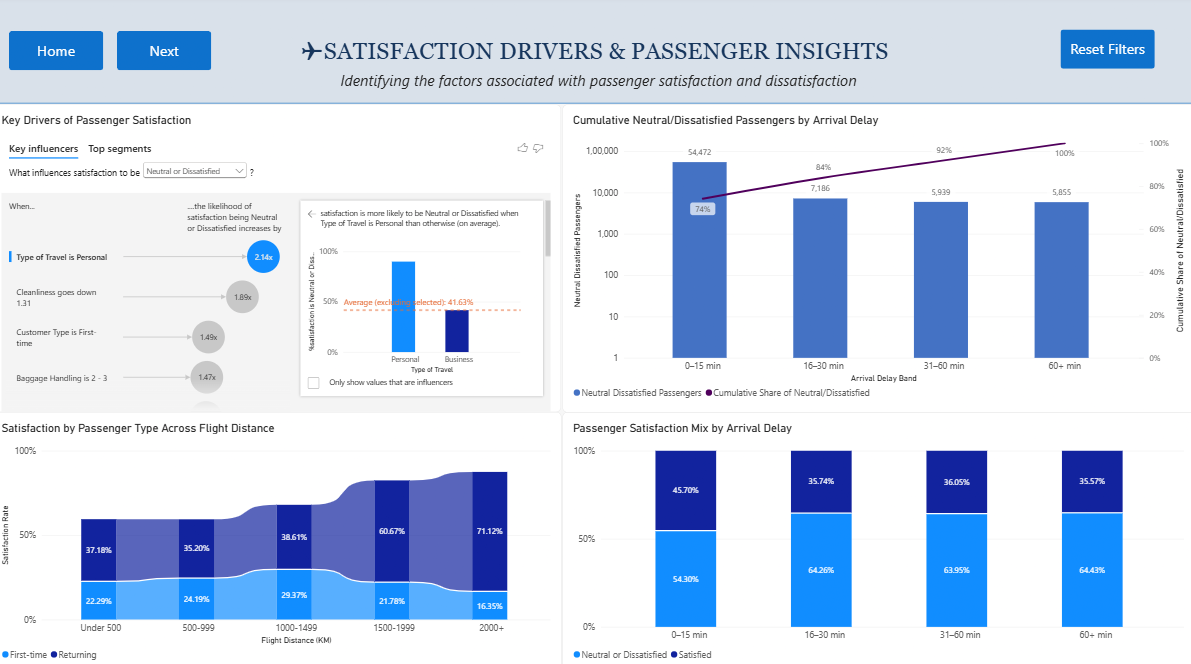

This screenshot's page, from the dashboard's own definition file:
{"tool":"powerbi","page":{"name":"Insights","canvas":[1920,1080],"ordinal":3},"visuals":[{"type":"shape","box":[5,0,1910,172.5],"z":0},{"type":"keyDriversVisual","title":"Key Drivers of Passenger Satisfaction","fields":{"Target":["Airline.Satisfaction"],"ExplainBy":["Airline.Age Group","Airline.Customer Type","Airline.Gender","Airline.Type of Travel","Airline.Flight Distance Group","Airline.Departure Delay Band","Airline.Arrival Delay Band","Airline.In-flight Service","Airline.Baggage Handling","Airline.Cleanliness"]},"box":[0,174.2,906.6,489.1],"z":1000},{"type":"ribbonChart","title":"Satisfaction by Passenger Type Across Flight Distance","fields":{"Category":["Airline.Flight Distance Group"],"Y":["Airline.Satisfaction Rate"],"Series":["Airline.Customer Type"]},"box":[0,662.9,907.1,417.1],"z":2000},{"type":"hundredPercentStackedColumnChart","title":"Passenger Satisfaction Mix by Arrival Delay","fields":{"Category":["Airline.Arrival Delay Band"],"Series":["Airline.Satisfaction"],"Y":["CountNonNull(Airline.Satisfaction)"]},"box":[908.6,662.9,1005.7,417.1],"z":3000},{"type":"lineClusteredColumnComboChart","title":"Cumulative Neutral/Dissatisfied Passengers by Arrival Delay","fields":{"Category":["Airline.Arrival Delay Band"],"Y":["Airline.Neutral Dissatisfied Passengers"],"Y2":["Airline.Cumulative Dissatisfaction %"]},"box":[908,173,1007,490],"z":4000},{"type":"actionButton","box":[27.5,57.5,150,62.5],"z":5000},{"type":"actionButton","box":[200,56.7,150,62.5],"z":6000},{"type":"actionButton","box":[1700,55,150,62.5],"z":7000},{"type":"textbox","box":[555.9,119.3,856.5,35.8],"z":8000}]}

Visuals, with their boxes in screenshot pixels (x1, y1, x2, y2), scaled from the page's 1920x1080 canvas onto the 1191x664 screenshot:
shape: select_region(3, 0, 1188, 106)
"Key Drivers of Passenger Satisfaction" keyDriversVisual: select_region(0, 107, 562, 408)
"Satisfaction by Passenger Type Across Flight Distance" ribbonChart: select_region(0, 408, 563, 663)
"Passenger Satisfaction Mix by Arrival Delay" hundredPercentStackedColumnChart: select_region(564, 408, 1187, 663)
"Cumulative Neutral/Dissatisfied Passengers by Arrival Delay" lineClusteredColumnComboChart: select_region(563, 106, 1188, 408)
actionButton: select_region(17, 35, 110, 74)
actionButton: select_region(124, 35, 217, 73)
actionButton: select_region(1055, 34, 1148, 72)
textbox: select_region(345, 73, 876, 95)
